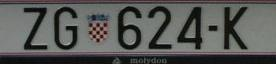-: (208, 24, 218, 32)
2: (148, 5, 173, 49)
4: (176, 5, 205, 50)
6: (116, 6, 143, 51)
G: (53, 6, 78, 51)
K: (223, 6, 249, 51)
Z: (22, 7, 49, 51)
